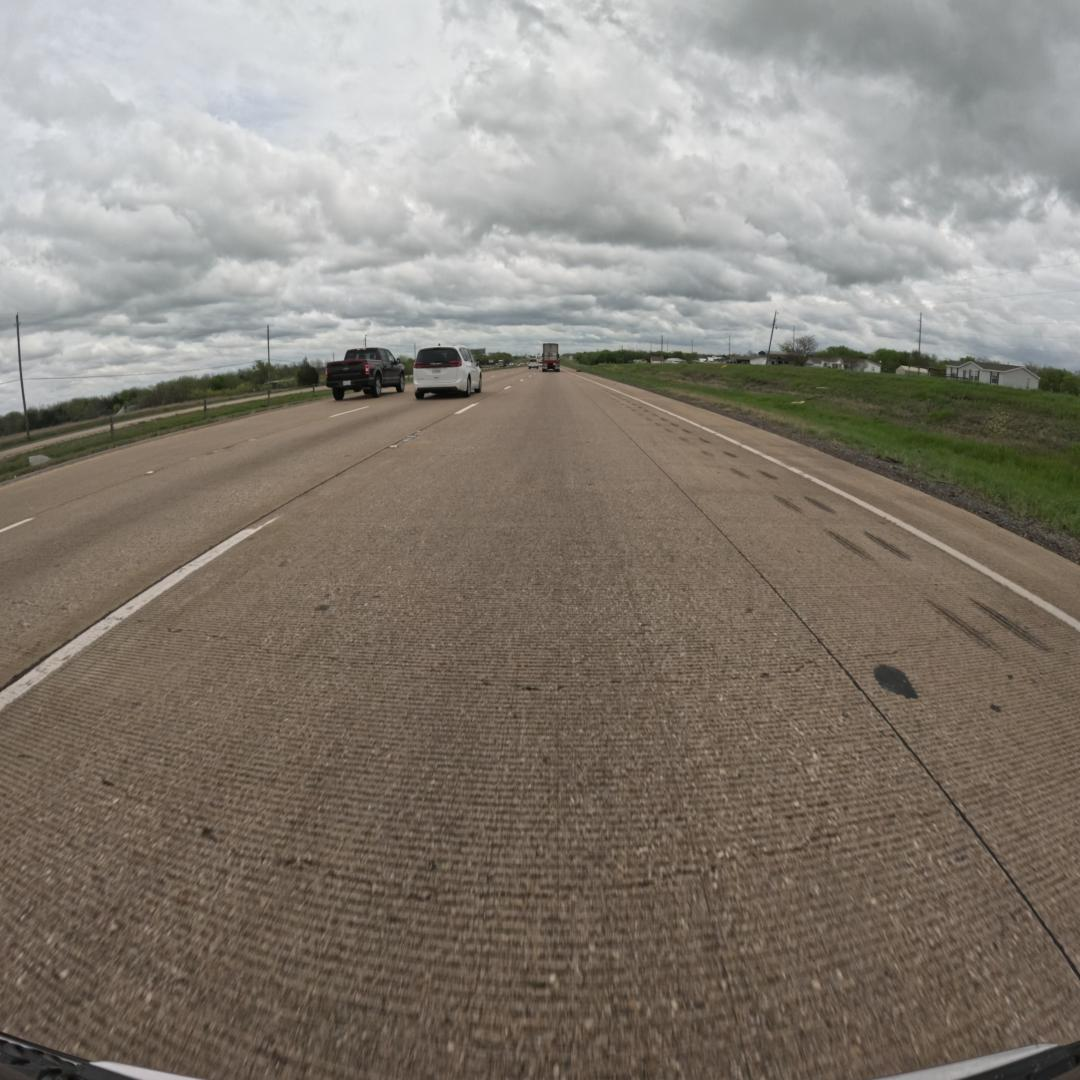lane0: (0, 376, 1080, 1077)
lane1: (0, 394, 469, 687)
